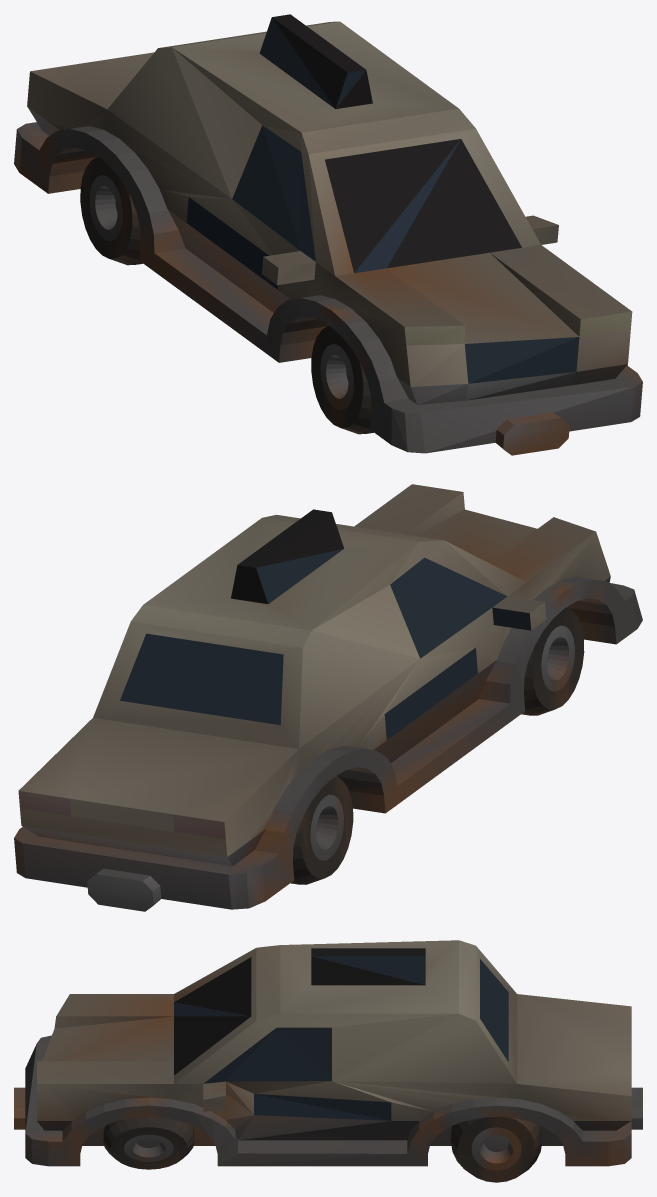
Rendered from taxi_wreck.glb.
The picture shows the model from 3 angles, top to bottom: view 1: azimuth 30°, elevation 25°; view 2: azimuth 150°, elevation 25°; view 3: azimuth 270°, elevation 25°; orthographic projection. The views are drawn at different scales.
Parts seen in each view (by area): view 1: taxi_wreck; view 2: taxi_wreck; view 3: taxi_wreck.
Boxes of the visible parts, x1,y1,x2,y2 form: taxi_wreck: (14,14,642,455); taxi_wreck: (14,484,642,911); taxi_wreck: (14,940,642,1182).
Bounding box in the file's own units: 1.8 × 1.65 × 4.62.
